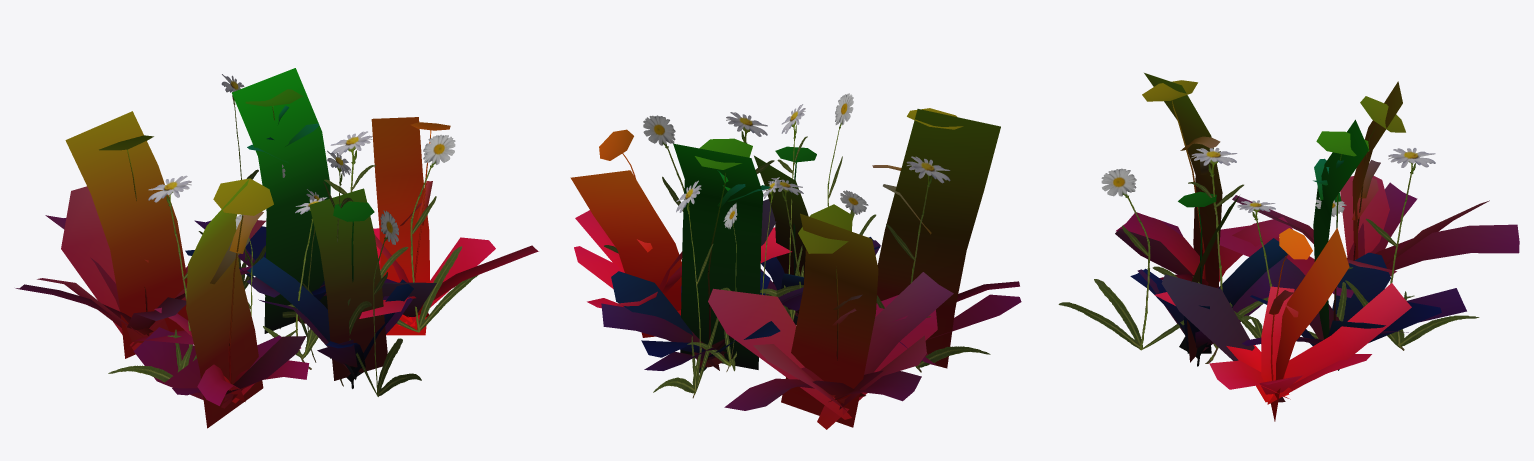
File: MSH_Field_WhiteDaisy_B.fbx
The picture shows the model from 3 angles, left to right: view 1: azimuth 30°, elevation 25°; view 2: azimuth 150°, elevation 25°; view 3: azimuth 270°, elevation 25°; orthographic projection. The views are drawn at different scales.
Visible parts, largest first — view 1: Field_WhiteDaisy_B_LOD1_GEO, Field_WhiteDaisy_B_LOD0_GEO, Field_WhiteDaisy_B_LOD2_GEO; view 2: Field_WhiteDaisy_B_LOD1_GEO, Field_WhiteDaisy_B_LOD0_GEO, Field_WhiteDaisy_B_LOD2_GEO; view 3: Field_WhiteDaisy_B_LOD1_GEO, Field_WhiteDaisy_B_LOD0_GEO, Field_WhiteDaisy_B_LOD2_GEO.
Part boxes in pixels (box(x1,y1,x2,y2)): Field_WhiteDaisy_B_LOD1_GEO: box(37, 68, 495, 428); Field_WhiteDaisy_B_LOD0_GEO: box(15, 89, 538, 405); Field_WhiteDaisy_B_LOD2_GEO: box(108, 74, 478, 396); Field_WhiteDaisy_B_LOD1_GEO: box(570, 109, 1021, 429); Field_WhiteDaisy_B_LOD0_GEO: box(575, 108, 1019, 410); Field_WhiteDaisy_B_LOD2_GEO: box(604, 93, 990, 398); Field_WhiteDaisy_B_LOD1_GEO: box(1115, 73, 1489, 421); Field_WhiteDaisy_B_LOD0_GEO: box(1116, 80, 1519, 404); Field_WhiteDaisy_B_LOD2_GEO: box(1058, 148, 1479, 363).
Size of the model in its own units: 81.04 by 47.14 by 80.06.
